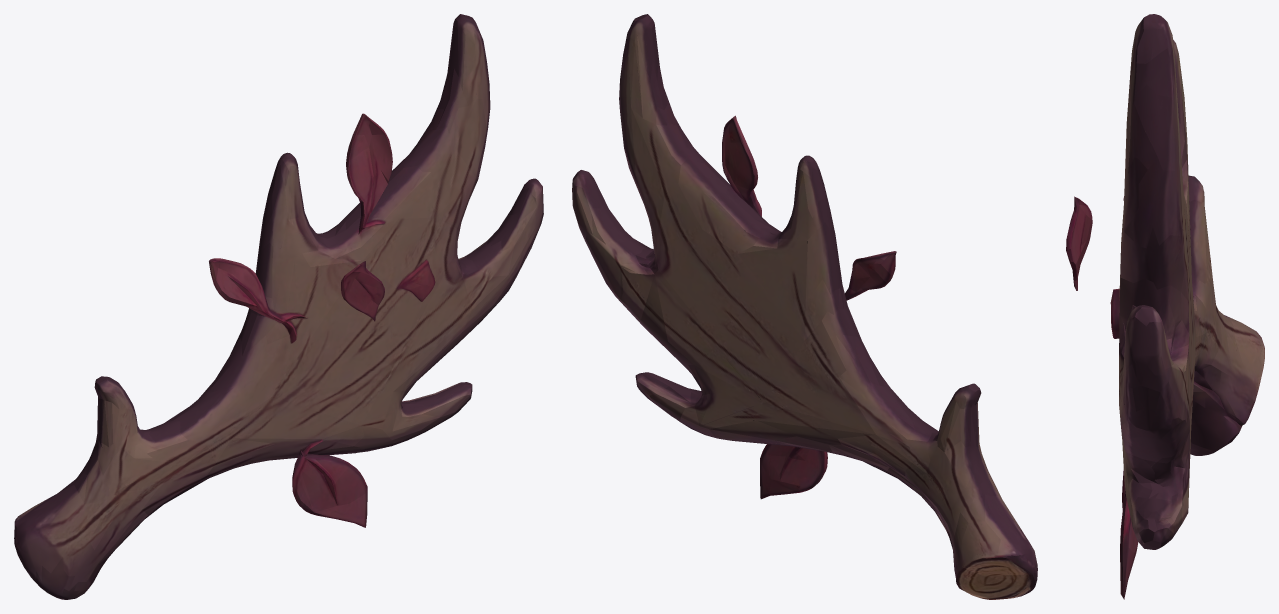
File: fennal-bois-5.glb
The picture shows the model from 3 angles, left to right: view 1: azimuth 30°, elevation 25°; view 2: azimuth 150°, elevation 25°; view 3: azimuth 270°, elevation 25°; orthographic projection. The views are drawn at different scales.
Visible parts, largest first — view 1: geometry_0; view 2: geometry_0; view 3: geometry_0.
Part boxes in pixels (x1,y1,x2,y2): geometry_0: (14, 14, 543, 599); geometry_0: (572, 14, 1037, 599); geometry_0: (1066, 14, 1264, 599).
Bounding box in the file's own units: 1.9 × 1.82 × 0.4787.
Materials: 1 (1 with a texture image).
